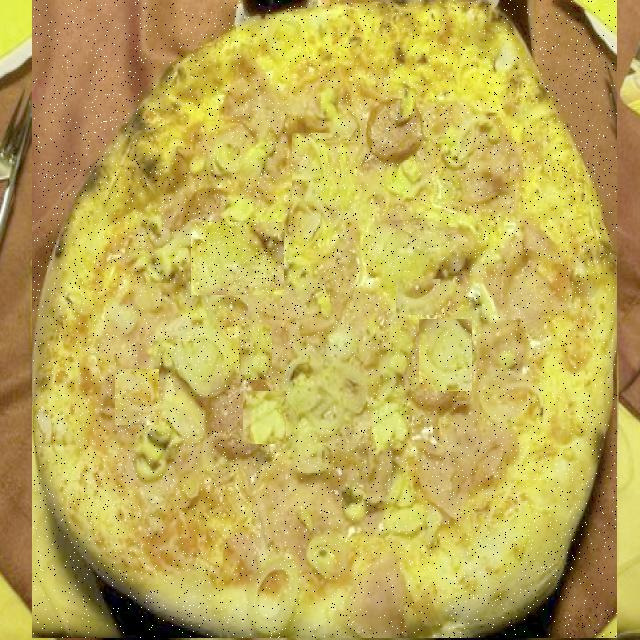Ham: (287, 227, 391, 358), (77, 249, 171, 373), (476, 312, 566, 438), (144, 412, 218, 502), (308, 466, 378, 548), (238, 556, 304, 637), (230, 440, 318, 500), (100, 230, 165, 305), (408, 187, 460, 252), (357, 98, 410, 142), (324, 84, 355, 122)
Onions: (191, 222, 284, 295), (290, 358, 368, 427), (419, 319, 472, 391), (292, 133, 340, 201), (155, 111, 208, 159), (115, 369, 159, 425), (243, 392, 286, 446), (240, 324, 274, 380), (396, 279, 440, 315), (286, 106, 321, 148)
Pepperoni: (376, 369, 447, 455), (180, 324, 247, 410), (229, 94, 284, 162)
Pizza: (33, 0, 617, 638)
